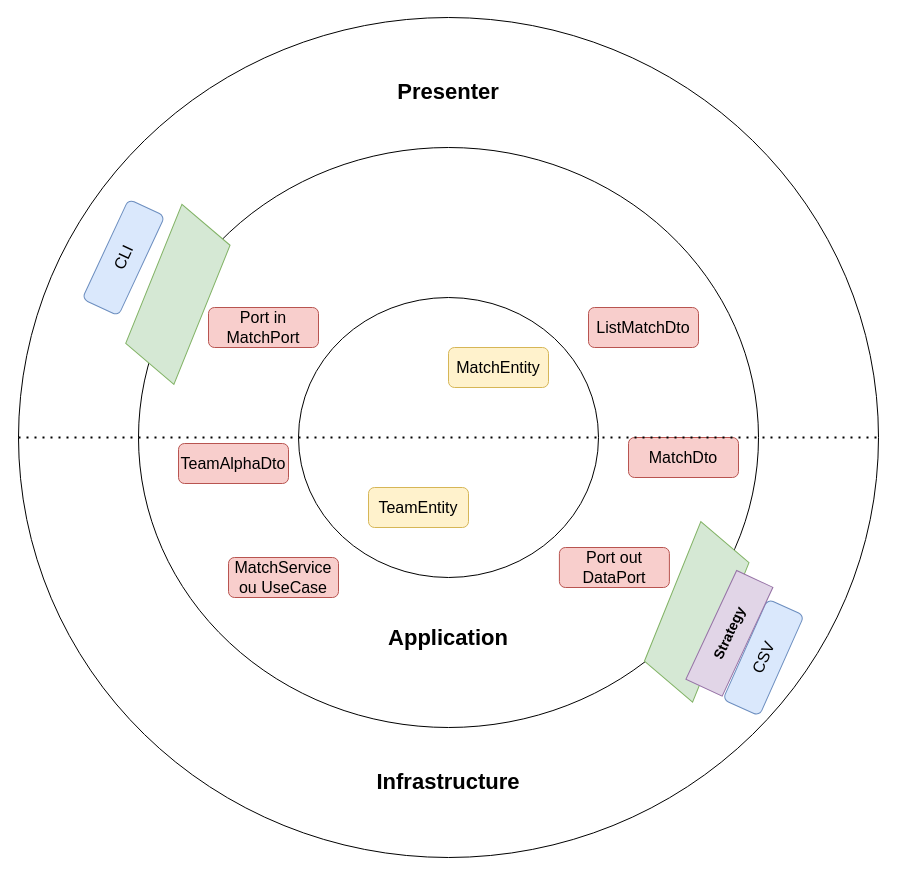
The diagram is 897 pixels wide and 875 high, and some of its shapes have lost their labels. Here are the shapes that lost their labels. From the top down, the box of each, then its label:
(117, 203, 238, 384): Adapter In (ConsoleAdapter)
(298, 296, 598, 578): Domain
(636, 520, 757, 702): Adapter out (DataAdapter)
